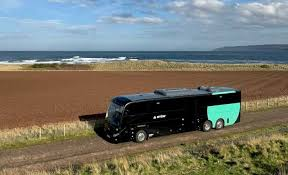bus: (102, 85, 242, 146)
